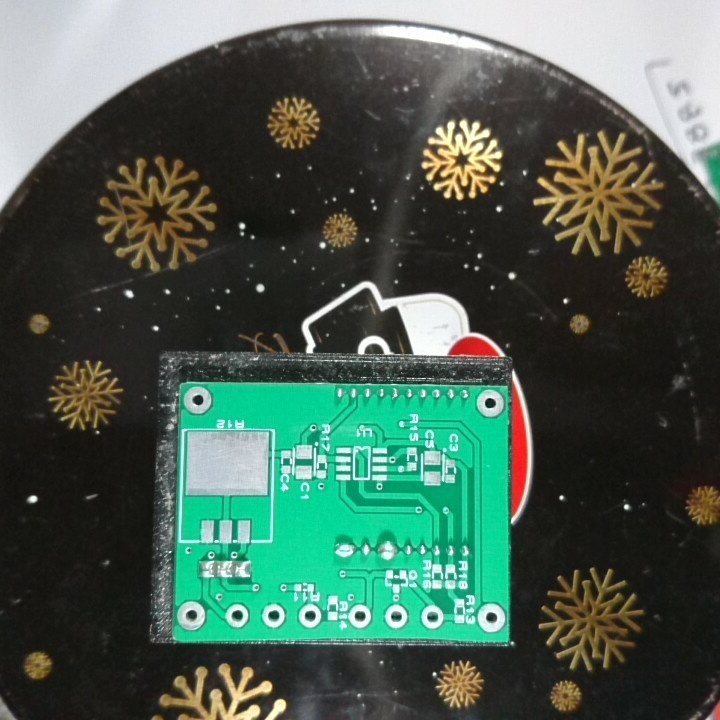F: (176, 598, 209, 634), (181, 383, 214, 417), (474, 387, 505, 420), (475, 603, 506, 635), (222, 602, 251, 632), (382, 602, 410, 631), (259, 602, 288, 629), (345, 603, 375, 629), (297, 603, 323, 630), (419, 604, 445, 630)
P: (376, 540, 401, 562), (331, 540, 357, 561)
